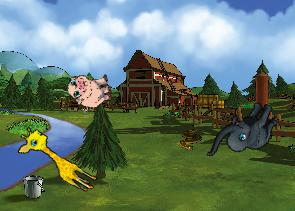elephant: (205, 89, 282, 174)
giraffe: (12, 123, 105, 195)
pig: (65, 66, 115, 114)
